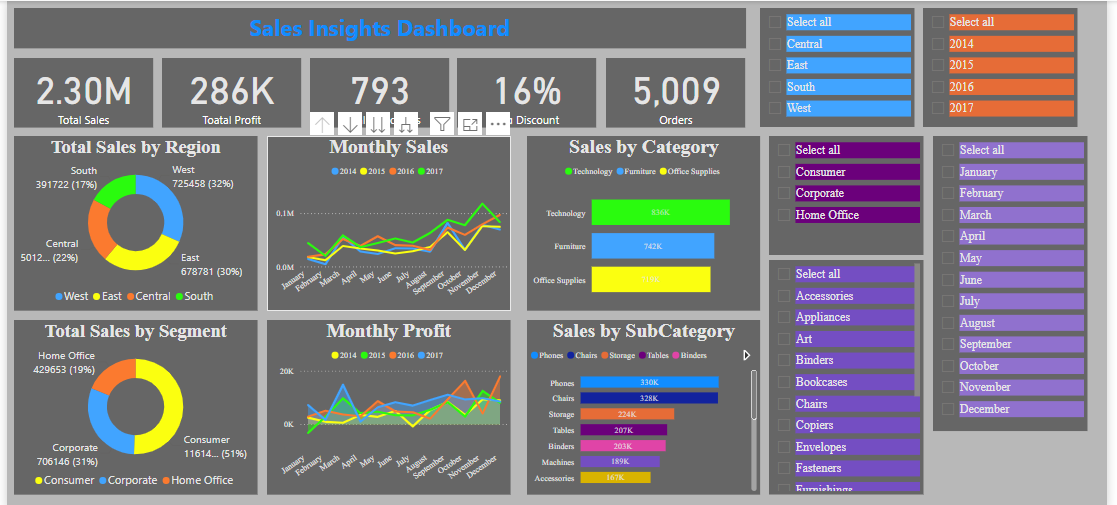

Layout of this report page (visuals, bound fields, positions):
{"tool":"powerbi","page":{"name":"Page 1","canvas":[1580,730],"ordinal":0},"visuals":[{"type":"textbox","box":[10.6,10.6,1052.2,58.3],"z":0},{"type":"card","fields":{"Values":["Sum(Orders.Sales)"]},"box":[10.2,81.5,200,100],"z":1000},{"type":"card","fields":{"Values":["Sum(Orders.Profit)"]},"box":[222.6,81.5,200.5,100.2],"z":2000},{"type":"card","fields":{"Values":["Count(Orders.Customer ID)"]},"box":[434.9,81.5,200.5,100.2],"z":3000},{"type":"card","fields":{"Values":["Avg(Orders.Discount)"]},"box":[647.3,81.5,200,100.2],"z":4000},{"type":"card","fields":{"Values":["Count(Orders.Order ID)"]},"box":[861.4,81.5,200.5,100.2],"z":5000},{"type":"donutChart","fields":{"Y":["Sum(Orders.Sales)"],"Category":["Orders.Region"]},"box":[10.6,194.2,349.5,250.7],"z":6000},{"type":"donutChart","fields":{"Y":["Sum(Orders.Sales)"],"Category":["Orders.Segment"]},"box":[10.6,459,349.5,250.7],"z":7000},{"type":"lineChart","title":"Monthly Sales","fields":{"Y":["Sum(Orders.Sales)"],"Category":["Orders.Order Date.Variation.Date Hierarchy.Month","Orders.Order Date.Variation.Date Hierarchy.Day"],"Series":["Orders.Order Date.Variation.Date Hierarchy.Year"]},"box":[374.3,194.2,349.5,250.7],"z":8000},{"type":"areaChart","title":"Monthly Profit","fields":{"Category":["Orders.Order Date.Variation.Date Hierarchy.Month","Orders.Order Date.Variation.Date Hierarchy.Day"],"Y":["Sum(Orders.Profit)"],"Series":["Orders.Order Date.Variation.Date Hierarchy.Year"]},"box":[374,459,350,251],"z":9000},{"type":"barChart","title":"Sales by Category","fields":{"Y":["Sum(Orders.Sales)"],"Category":["Orders.Category"],"Series":["Orders.Category"]},"box":[746.7,194.2,335.4,250.7],"z":10000},{"type":"barChart","title":"Sales by SubCategory","fields":{"Y":["Sum(Orders.Sales)"],"Category":["Orders.Sub-Category"],"Series":["Orders.Sub-Category"]},"box":[746.7,459,335.4,250.7],"z":11000},{"type":"slicer","fields":{"Values":["Orders.Sub-Category"]},"box":[1094.5,372.5,222.4,337.2],"z":12000},{"type":"slicer","fields":{"Values":["Orders.Segment"]},"box":[1094.5,194.2,222.4,171.2],"z":13000},{"type":"slicer","fields":{"Values":["Orders.Region"]},"box":[1082.2,10.6,222.4,171.2],"z":14000},{"type":"slicer","fields":{"Values":["Orders.Order Date.Variation.Date Hierarchy.Year"]},"box":[1317,10.6,222.4,171.2],"z":15000},{"type":"slicer","fields":{"Values":["Orders.Order Date.Variation.Date Hierarchy.Month"]},"box":[1331.1,194.2,222.4,423.7],"z":16000}]}

Visuals, with their boxes in screenshot pixels (x1, y1, x2, y2):
textbox: {"left": 2, "top": 5, "right": 748, "bottom": 46}
card - Sum(Orders.Sales): {"left": 1, "top": 55, "right": 143, "bottom": 126}
card - Sum(Orders.Profit): {"left": 152, "top": 55, "right": 294, "bottom": 126}
card - Count(Orders.Customer ID): {"left": 302, "top": 55, "right": 445, "bottom": 126}
card - Avg(Orders.Discount): {"left": 453, "top": 55, "right": 595, "bottom": 126}
card - Count(Orders.Order ID): {"left": 605, "top": 55, "right": 747, "bottom": 126}
donutChart - Sum(Orders.Sales) x Orders.Region: {"left": 2, "top": 135, "right": 249, "bottom": 312}
donutChart - Sum(Orders.Sales) x Orders.Segment: {"left": 2, "top": 322, "right": 249, "bottom": 500}
"Monthly Sales" lineChart: {"left": 260, "top": 135, "right": 507, "bottom": 312}
"Monthly Profit" areaChart: {"left": 259, "top": 322, "right": 507, "bottom": 500}
"Sales by Category" barChart: {"left": 524, "top": 135, "right": 761, "bottom": 312}
"Sales by SubCategory" barChart: {"left": 524, "top": 322, "right": 761, "bottom": 500}
slicer - Orders.Sub-Category: {"left": 770, "top": 261, "right": 928, "bottom": 500}
slicer - Orders.Segment: {"left": 770, "top": 135, "right": 928, "bottom": 256}
slicer - Orders.Region: {"left": 761, "top": 5, "right": 919, "bottom": 126}
slicer - Orders.Order Date.Variation.Date Hierarchy.Year: {"left": 928, "top": 5, "right": 1085, "bottom": 126}
slicer - Orders.Order Date.Variation.Date Hierarchy.Month: {"left": 938, "top": 135, "right": 1095, "bottom": 435}
